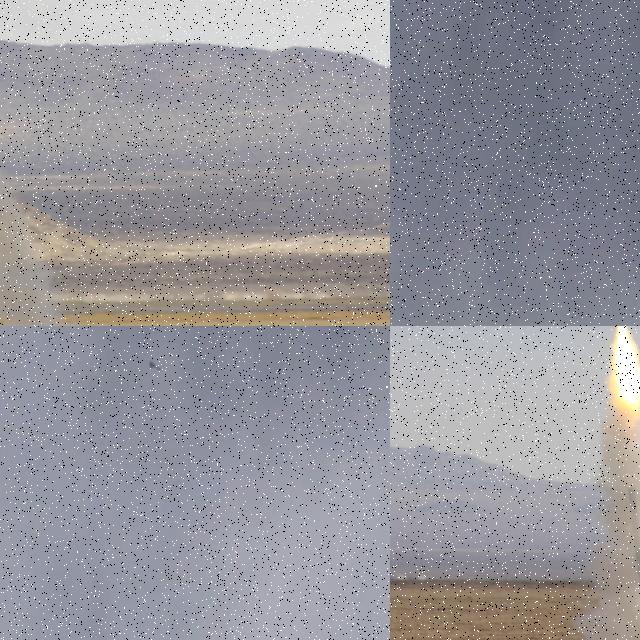Rocket: (150, 362, 160, 370)
